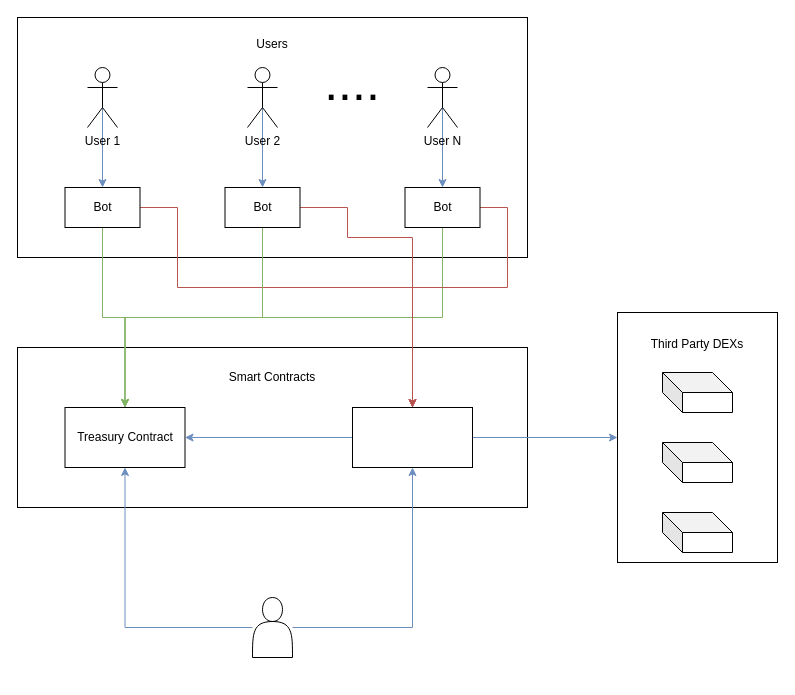
This 795x695 diagram has some shape labels left out. The centre of each missing label's shape, as x and y in pixels:
Admin: (x=272, y=627)
Logic Contract: (x=412, y=437)
